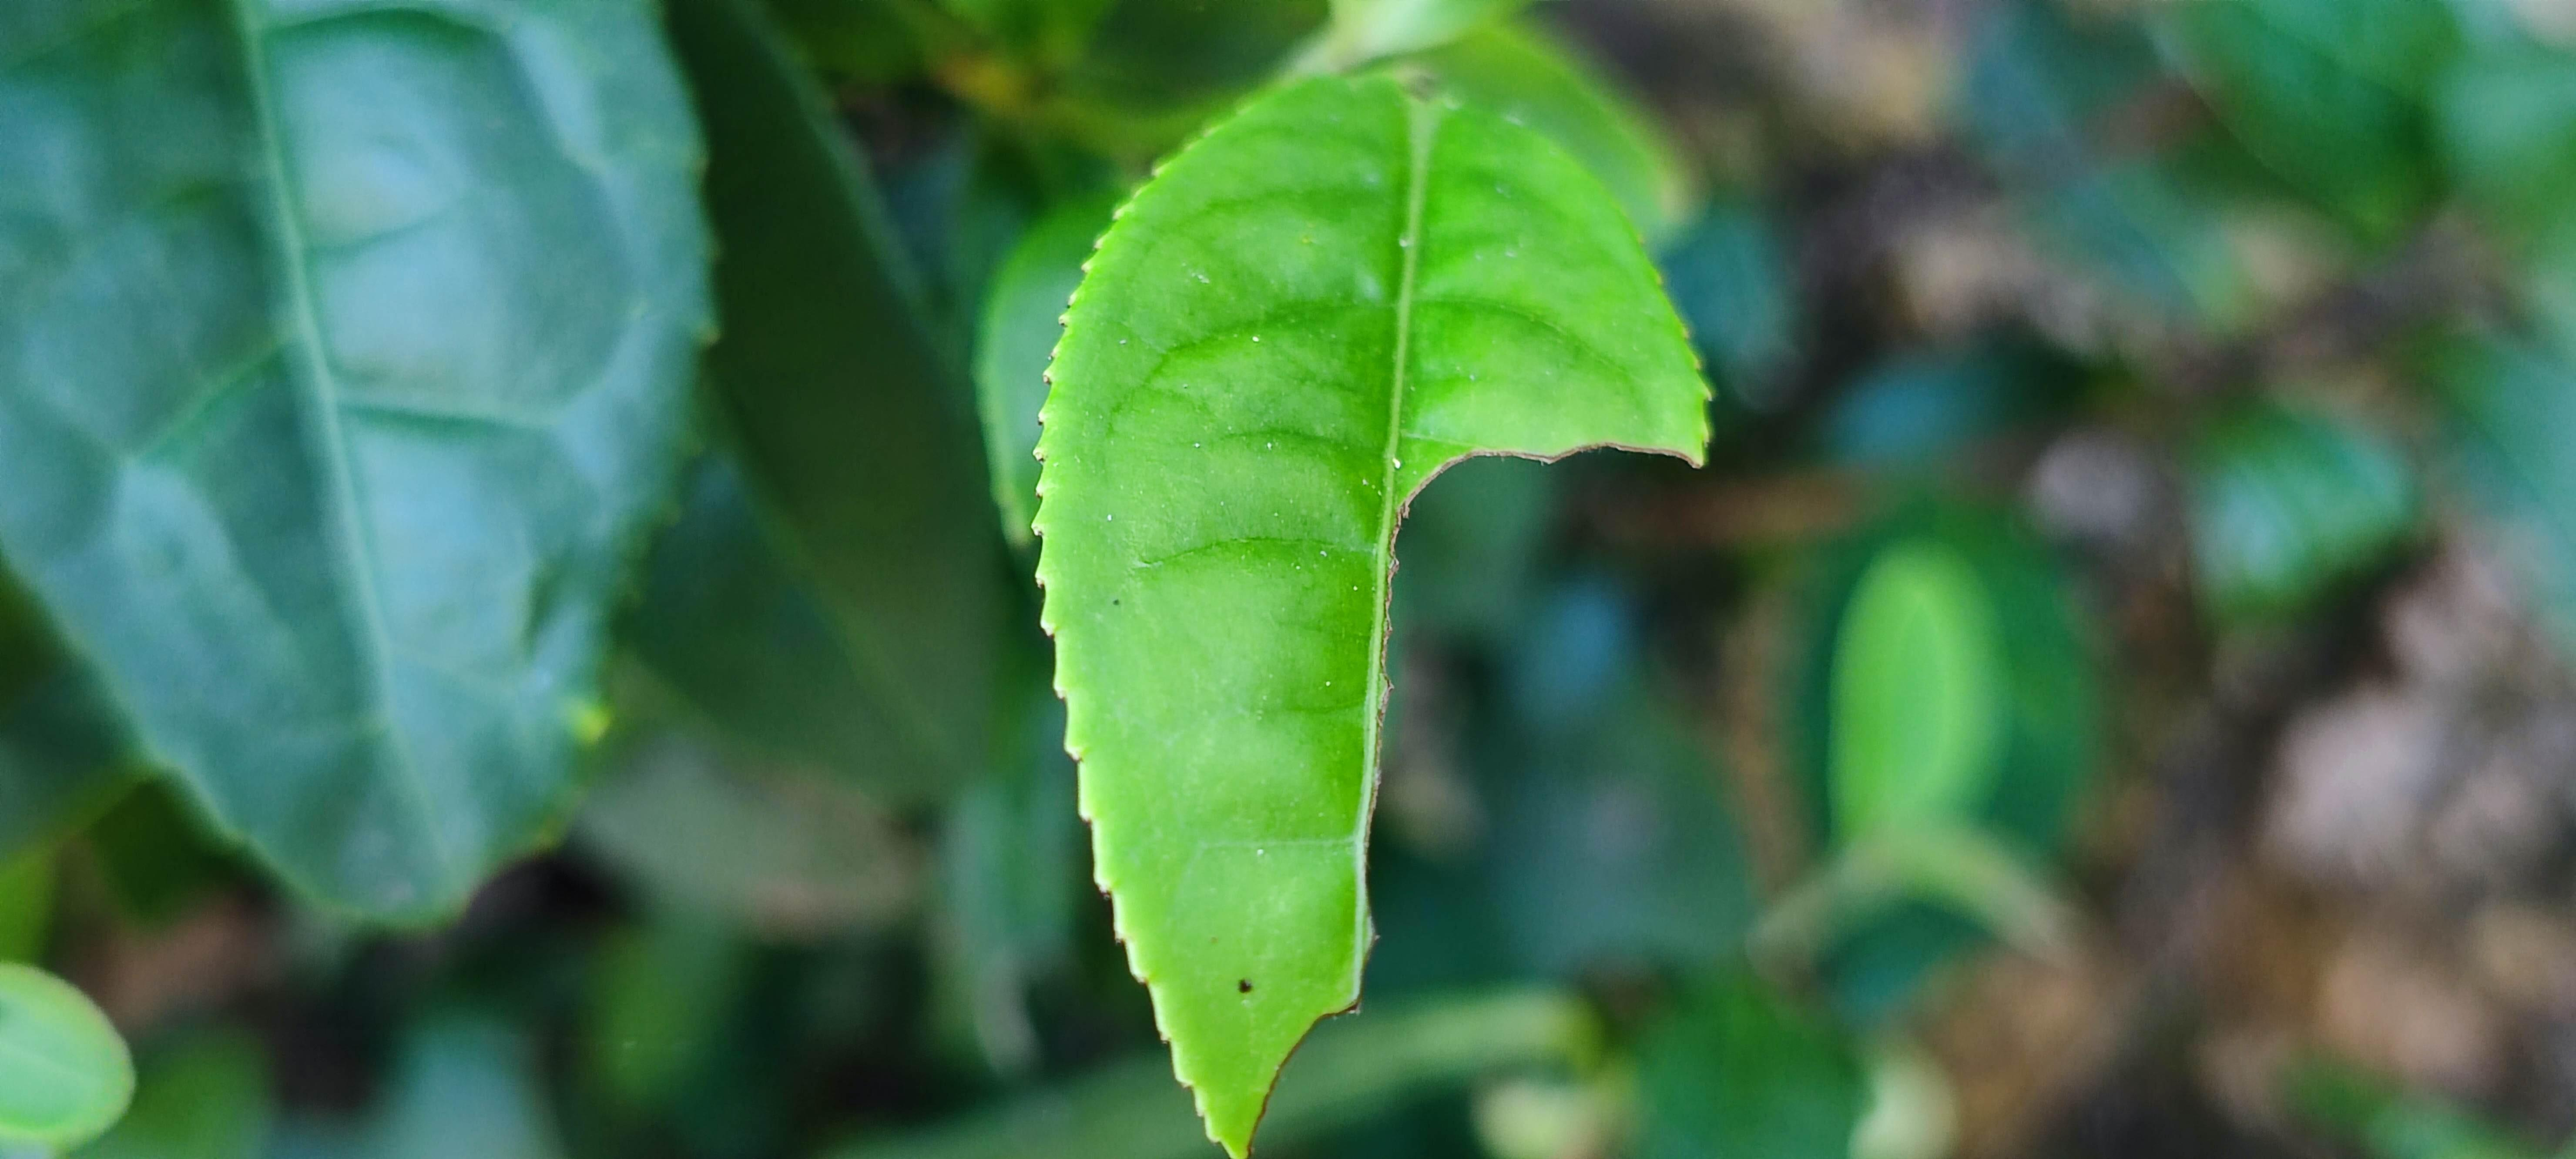chihuo_high: (1030, 61, 1717, 1154)
healthy: (0, 3, 729, 939)
